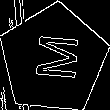M_W: (27, 34, 80, 84)
